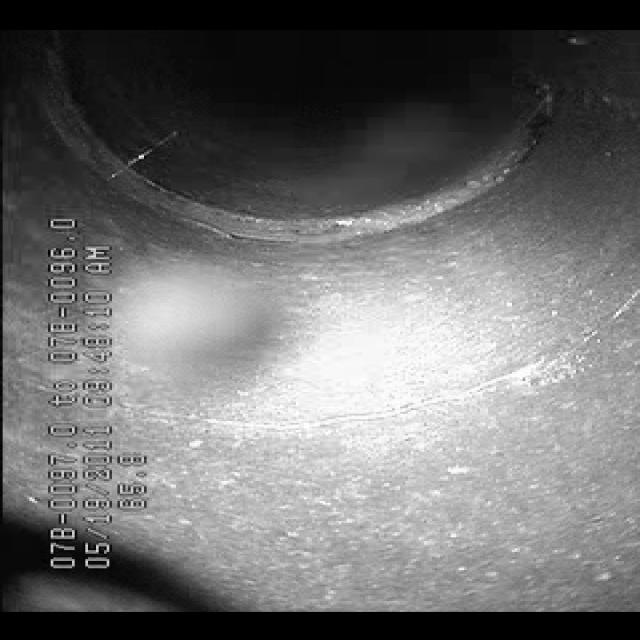Crack: (176, 340, 584, 448)
